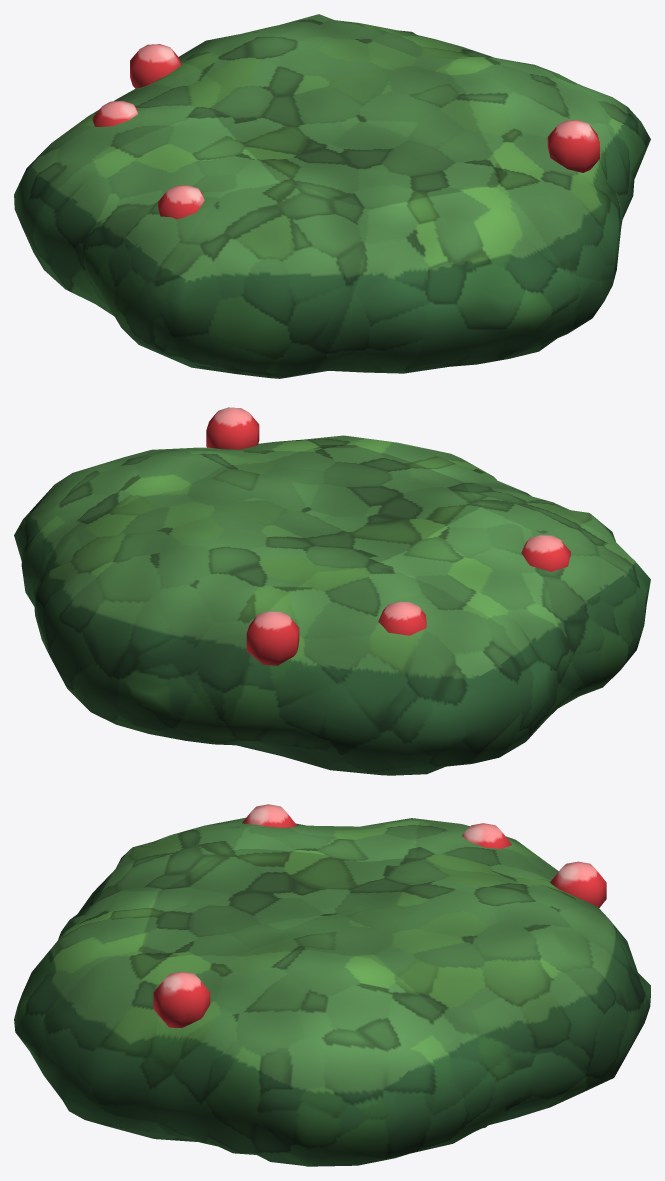
The model's file is lingonberry_bush.glb.
The picture shows the model from 3 angles, top to bottom: view 1: azimuth 30°, elevation 25°; view 2: azimuth 150°, elevation 25°; view 3: azimuth 270°, elevation 25°; orthographic projection. The views are drawn at different scales.
Visible parts, largest first — view 1: Lingonberry; view 2: Lingonberry; view 3: Lingonberry.
Boxes of the visible parts, x1=… form: Lingonberry: x1=14, y1=14, x2=650, y2=378; Lingonberry: x1=14, y1=407, x2=650, y2=775; Lingonberry: x1=14, y1=804, x2=650, y2=1166.
Size of the model in its own units: 0.8947 by 0.3056 by 0.8554.
Materials: 1 (1 with a texture image).
